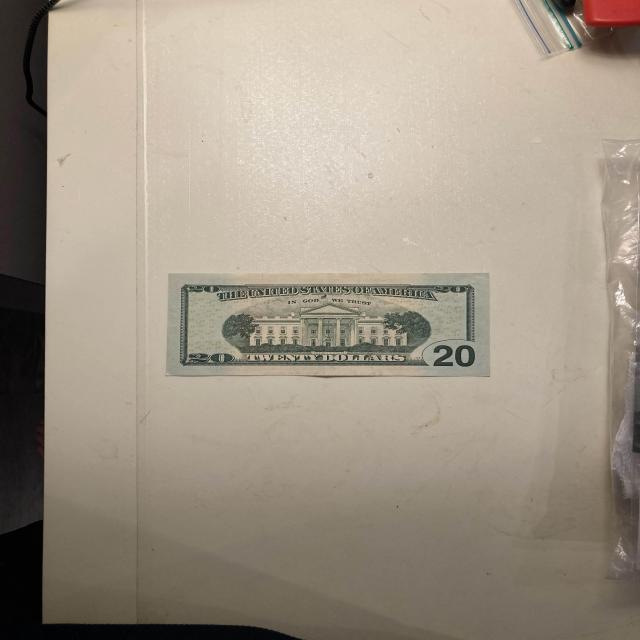twenty: (165, 272, 490, 377)
